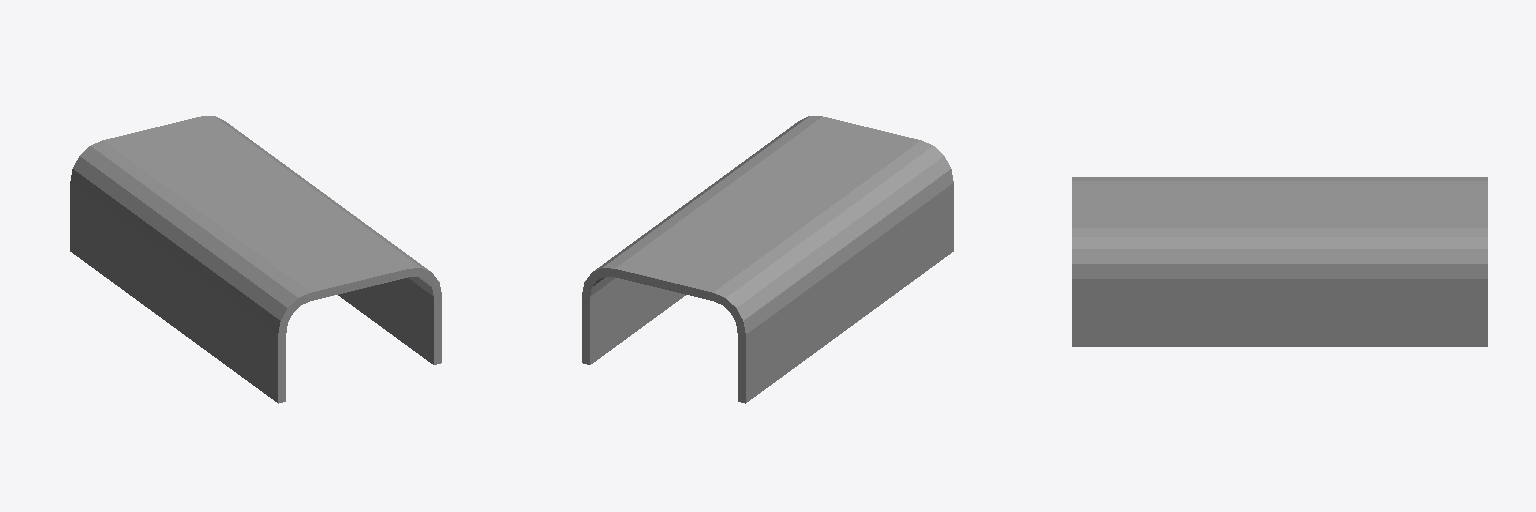
The model's file is PreppedInstallation.obj.
3 renders of one model, left to right at view 1: azimuth 30°, elevation 25°; view 2: azimuth 150°, elevation 25°; view 3: azimuth 270°, elevation 25°, orthographic.
Visible parts, largest first — view 1: Installation.001_cube_mesh_data.011; view 2: Installation.001_cube_mesh_data.011; view 3: Installation.001_cube_mesh_data.011.
Part boxes in pixels (left/top/right/bottom): Installation.001_cube_mesh_data.011: left=70, top=116, right=441, bottom=403; Installation.001_cube_mesh_data.011: left=582, top=116, right=953, bottom=403; Installation.001_cube_mesh_data.011: left=1072, top=177, right=1487, bottom=346.
Size of the model in its own units: 5.19 by 3.11 by 11.41.